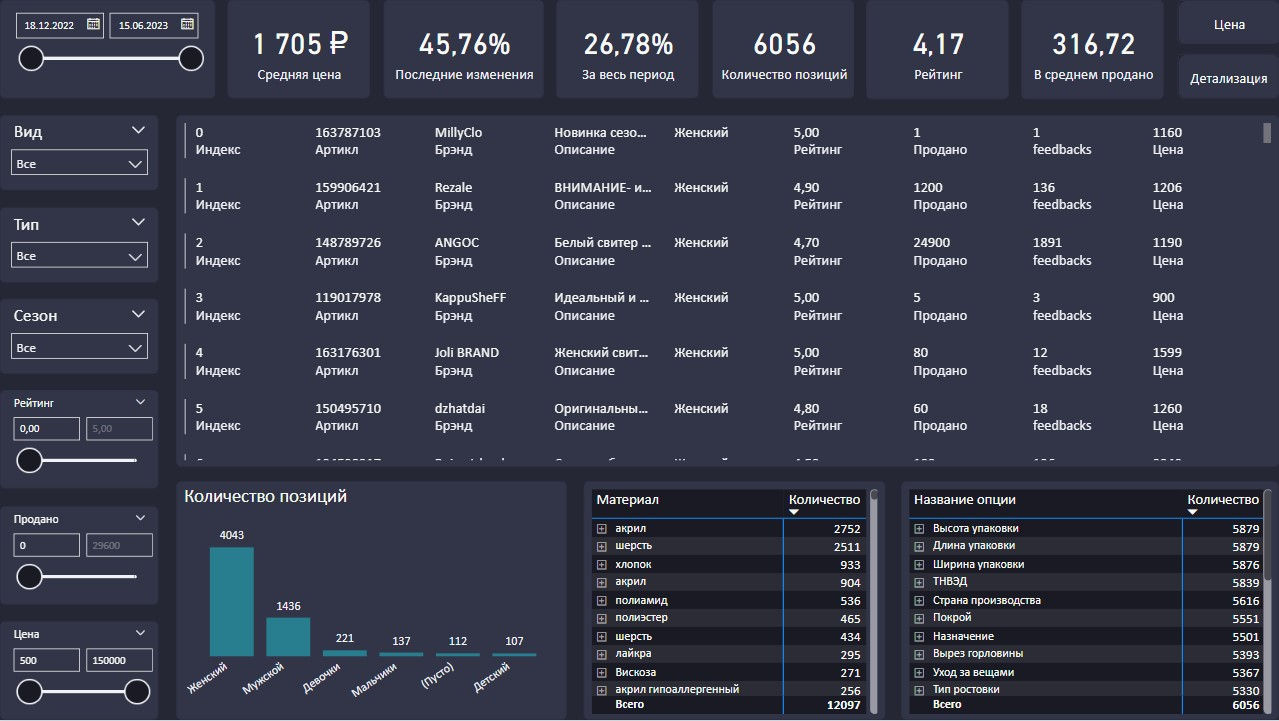

Layout of this report page (visuals, bound fields, positions):
{"tool":"powerbi","page":{"name":"WB","canvas":[1280,720],"ordinal":0},"visuals":[{"type":"lineChart","title":"Цена","fields":{"Category":["history.date.Изменение.Иерархия дат.Год","history.date.Изменение.Иерархия дат.Квартал","history.date.Изменение.Иерархия дат.Месяц","history.date.Изменение.Иерархия дат.День"],"Y":["history._pricePercentile25","Avg(history.price)","history._pricePercentile75"]},"box":[176.2,115,547.5,352.5],"z":0},{"type":"lineChart","title":"Динамика цены в процентах","fields":{"Y":["history._changePercentile25","Avg(history.priceChange)","history._changePercentile75"],"Category":["history.date.Изменение.Иерархия дат.Год","history.date.Изменение.Иерархия дат.Квартал","history.date.Изменение.Иерархия дат.Месяц","history.date.Изменение.Иерархия дат.День"]},"box":[741.2,115,538.8,352.5],"z":1000},{"type":"slicer","fields":{"Values":["history.date"]},"box":[0,0,215,98.8],"z":2000},{"type":"pivotTable","fields":{"Rows":["options.name","options.value"],"Values":["Count(options.index)"]},"box":[901.3,481.2,378.8,238.8],"z":3000},{"type":"clusteredColumnChart","title":"Количество позиций","fields":{"Category":["main_data.kinds"],"Y":["Count(main_data.article)"]},"box":[176.4,481.8,390,238.2],"z":4000},{"type":"slicer","fields":{"Values":["main_data.kinds"]},"box":[0,115.4,158.8,75],"z":5000},{"type":"slicer","fields":{"Values":["main_data.rating"]},"box":[0,390.4,158.8,98.8],"z":6000},{"type":"slicer","fields":{"Values":["main_data.qnt"]},"box":[0,505.8,158.8,98.8],"z":7000},{"type":"slicer","fields":{"Values":["main_data.subj_name"]},"box":[0,207.1,158.8,75],"z":8000},{"type":"slicer","fields":{"Values":["main_data.price"]},"box":[0,621.2,158.8,98.8],"z":9000},{"type":"slicer","fields":{"Values":["seazon.season"]},"box":[0,298.8,158.8,75],"z":10000},{"type":"pivotTable","fields":{"Rows":["compositions.name","compositions.value"],"Values":["CountNonNull(compositions.article)"]},"box":[583.2,481.2,301.2,238.8],"z":11000},{"type":"card","fields":{"Values":["history._meanPrice"]},"box":[227.9,0,142.5,98.8],"z":12000},{"type":"card","fields":{"Values":["history._lastPriceChange"]},"box":[383.3,0,160,98.8],"z":13000},{"type":"card","fields":{"Values":["Count(main_data.article)"]},"box":[711.9,0,141.9,98.8],"z":14000},{"type":"card","fields":{"Values":["Avg(main_data.rating)"]},"box":[866.7,0,142.2,98.9],"z":15000},{"type":"card","fields":{"Values":["Avg(main_data.qnt)"]},"box":[1021.8,0,142.8,98.9],"z":16000},{"type":"card","fields":{"Values":["history._totalPriceChange"]},"box":[556.2,0,142.5,98.8],"z":17000},{"type":"shape","box":[1177.1,0,102.9,44.3],"z":18000},{"type":"shape","box":[1177.5,53.8,102.5,45],"z":19000}]}

Visuals, with their boxes in screenshot pixels (x1, y1, x2, y2), scaled from the page's 1280x720 canvas onto the 1279x721 screenshot:
"Цена" lineChart: (176, 115, 723, 468)
"Динамика цены в процентах" lineChart: (741, 115, 1278, 468)
slicer - history.date: (0, 0, 215, 99)
pivotTable - options.name x options.value: (901, 482, 1278, 720)
"Количество позиций" clusteredColumnChart: (176, 482, 566, 720)
slicer - main_data.kinds: (0, 116, 159, 191)
slicer - main_data.rating: (0, 391, 159, 490)
slicer - main_data.qnt: (0, 507, 159, 605)
slicer - main_data.subj_name: (0, 207, 159, 282)
slicer - main_data.price: (0, 622, 159, 720)
slicer - seazon.season: (0, 299, 159, 374)
pivotTable - compositions.name x compositions.value: (583, 482, 884, 720)
card - history._meanPrice: (228, 0, 370, 99)
card - history._lastPriceChange: (383, 0, 543, 99)
card - Count(main_data.article): (711, 0, 853, 99)
card - Avg(main_data.rating): (866, 0, 1008, 99)
card - Avg(main_data.qnt): (1021, 0, 1164, 99)
card - history._totalPriceChange: (556, 0, 698, 99)
shape: (1176, 0, 1278, 44)
shape: (1177, 54, 1278, 99)
